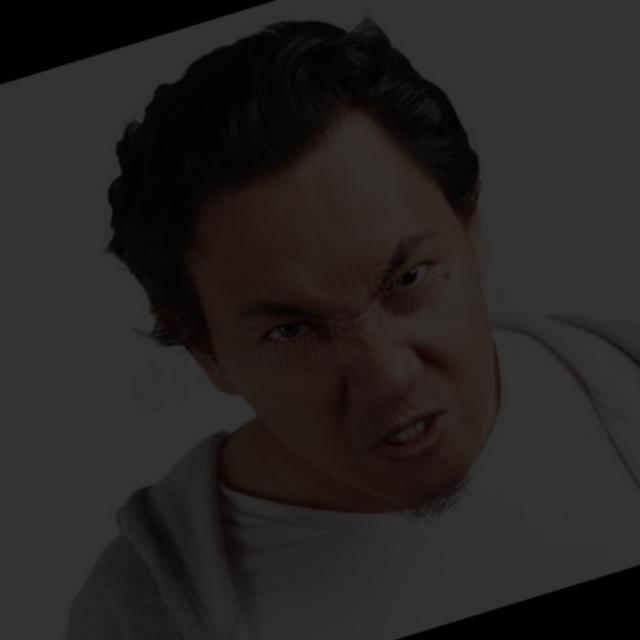Angry: (92, 60, 541, 562)
